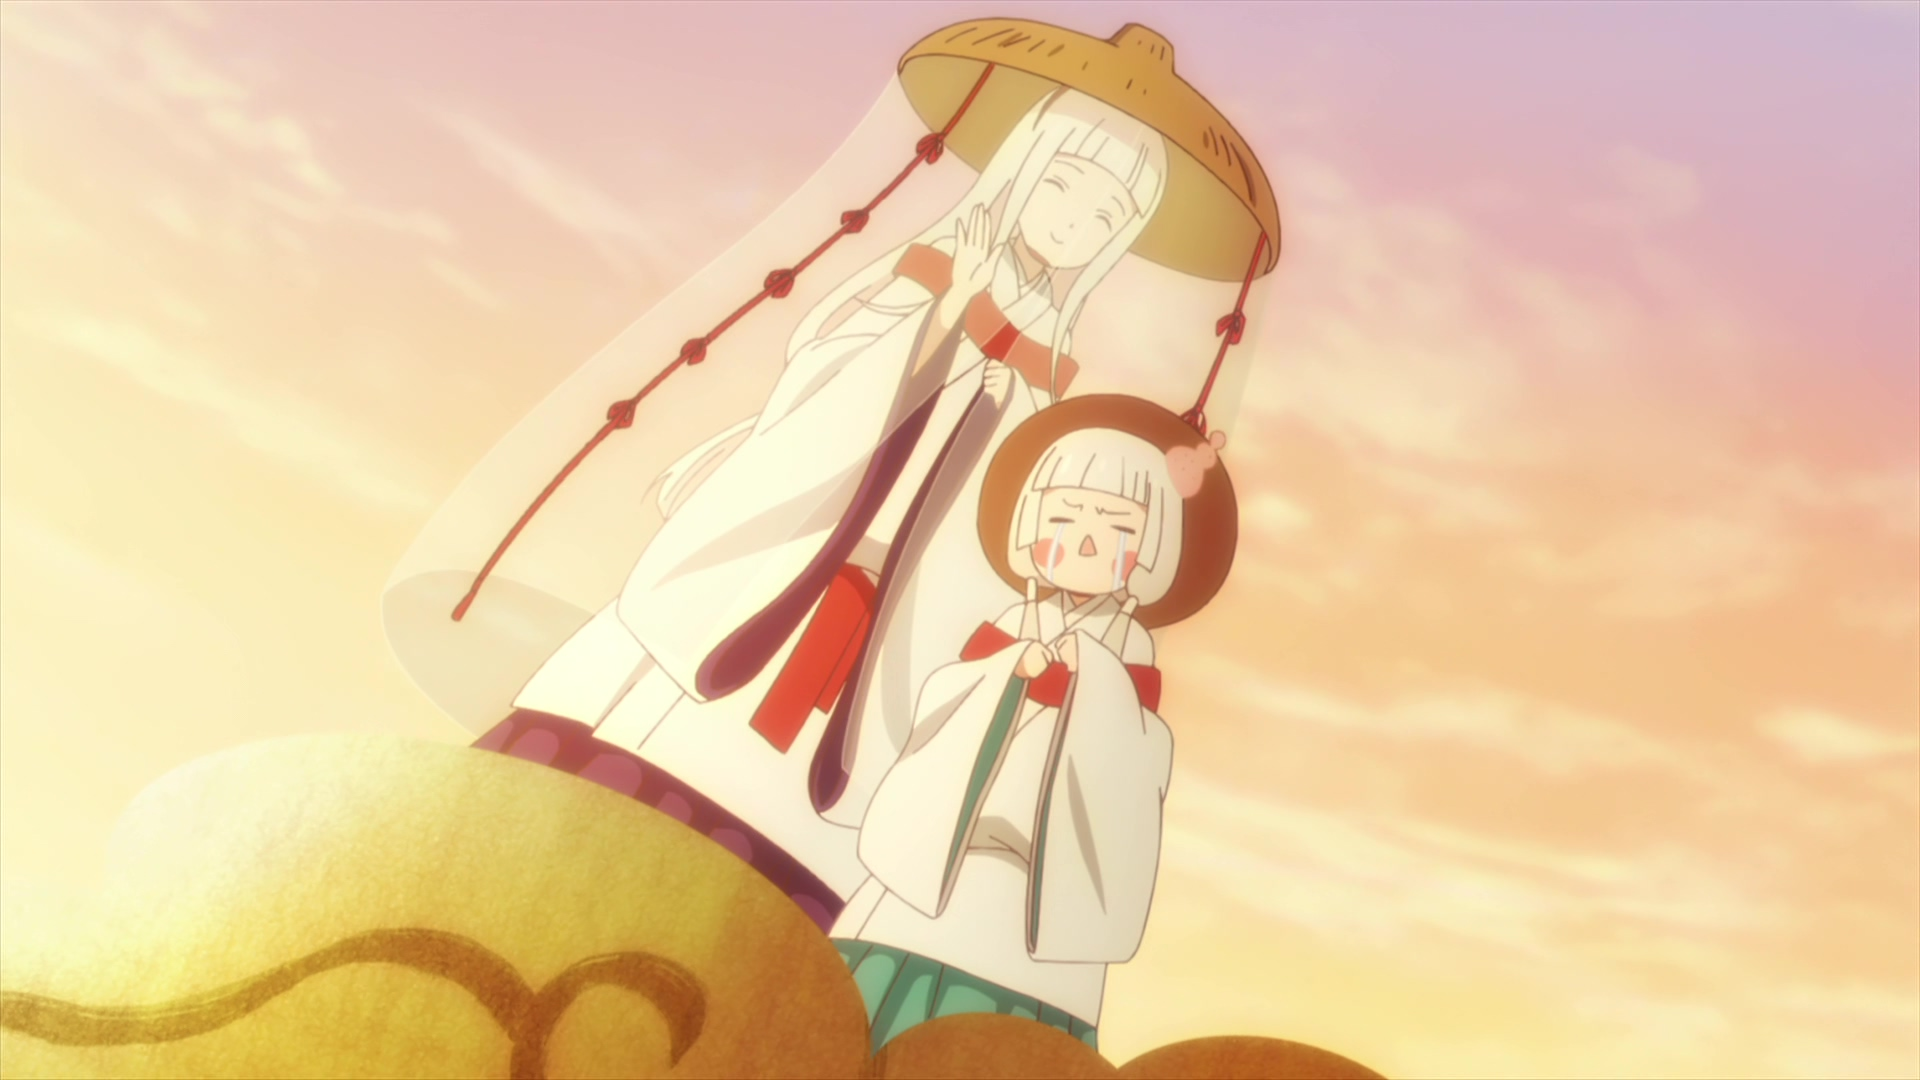其他: (385, 15, 1280, 932), (825, 393, 1238, 1056)
